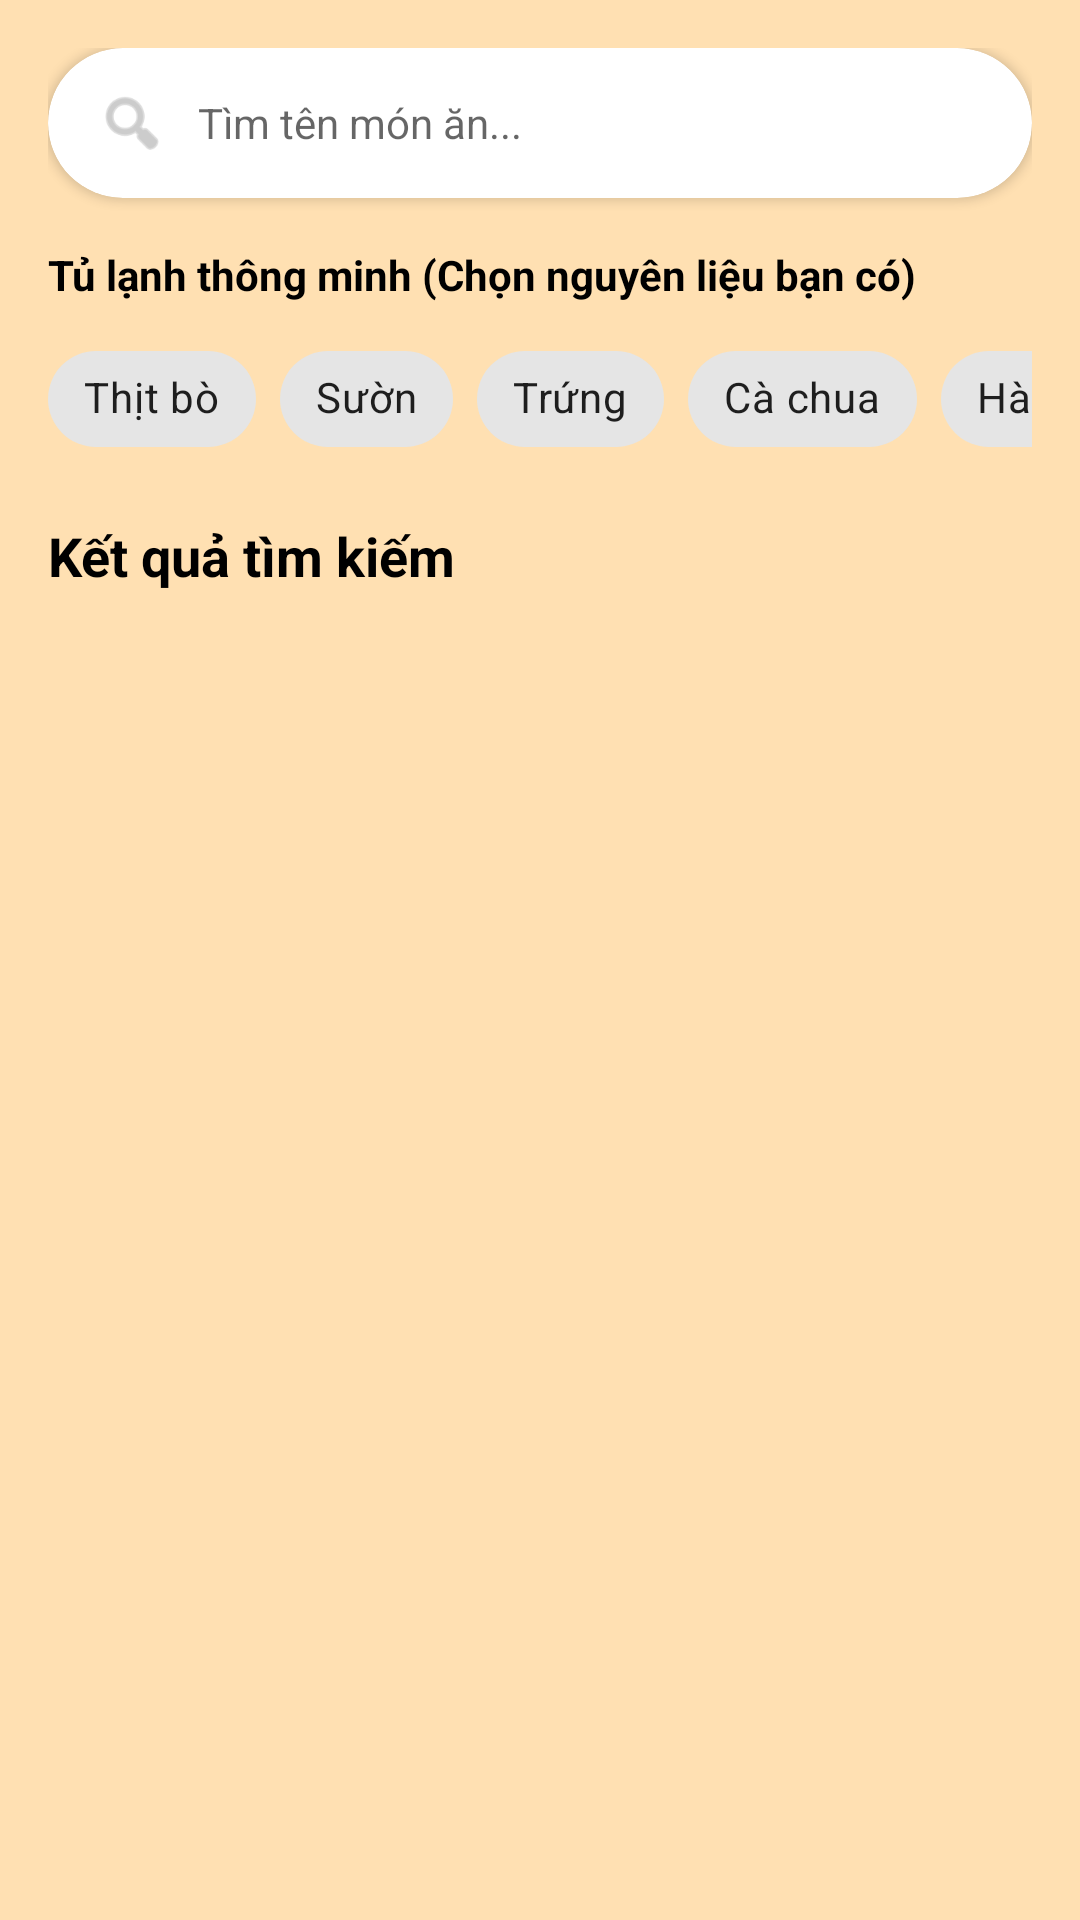

Screen size 1080px x 1920px. Icon name, then its center in pixels as point (x, y):
search: point (132, 123)
